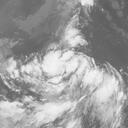cyclone: (24, 50, 104, 111)
